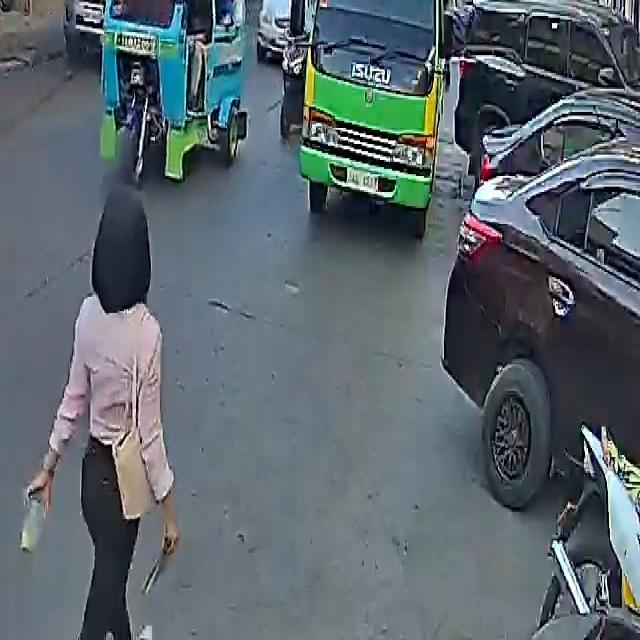car: (443, 93, 640, 520), (453, 0, 640, 183), (256, 0, 331, 64), (68, 0, 124, 43)
